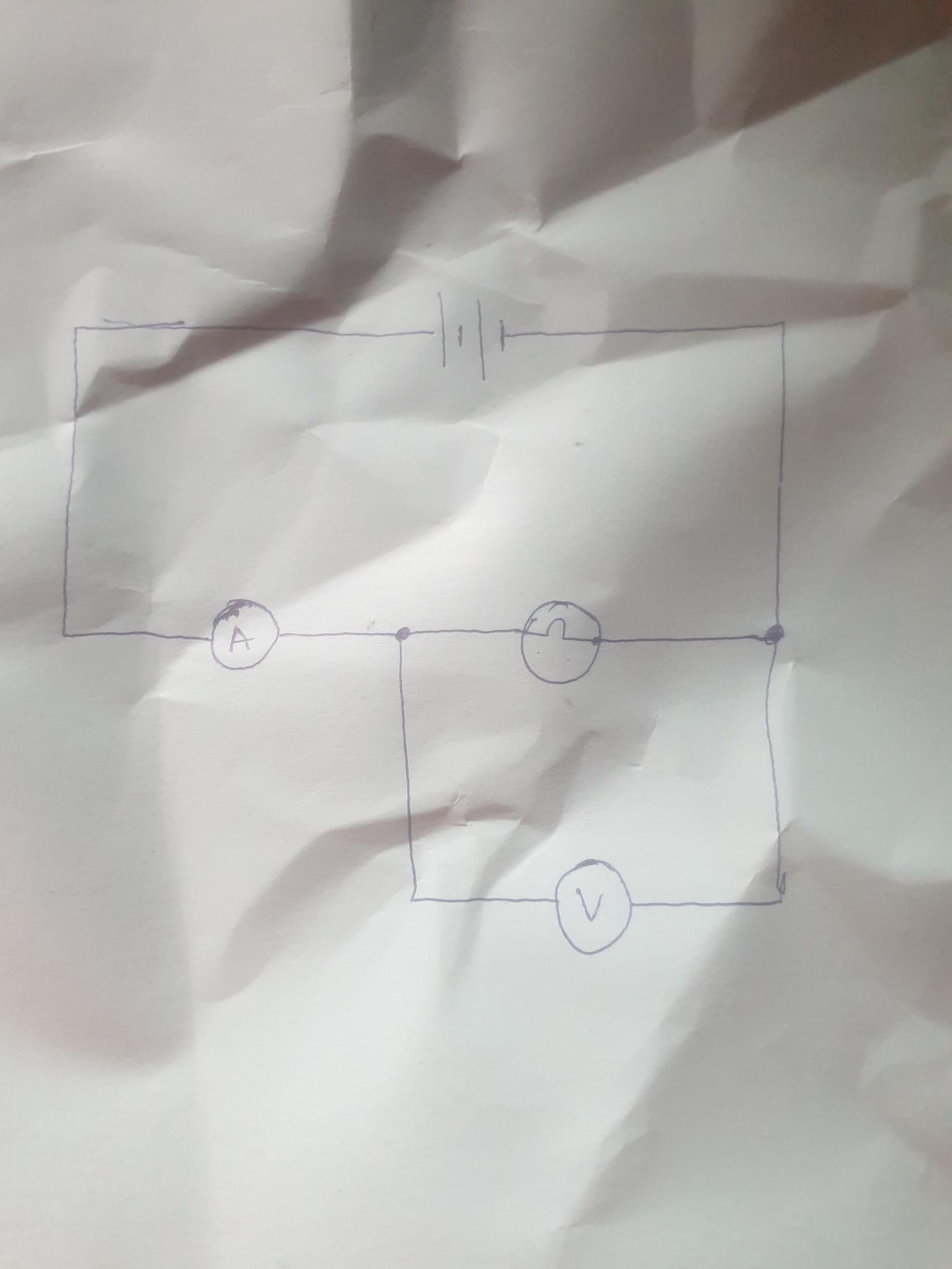junction: (757, 618, 791, 651), (387, 622, 415, 647), (403, 885, 428, 910), (774, 890, 789, 910), (57, 627, 72, 642), (777, 317, 790, 330), (70, 322, 82, 334)
lamp: (516, 598, 604, 686)
probe.current: (205, 597, 283, 674)
probe.voltage: (550, 856, 635, 959)
voltage.battery: (427, 289, 509, 384)
